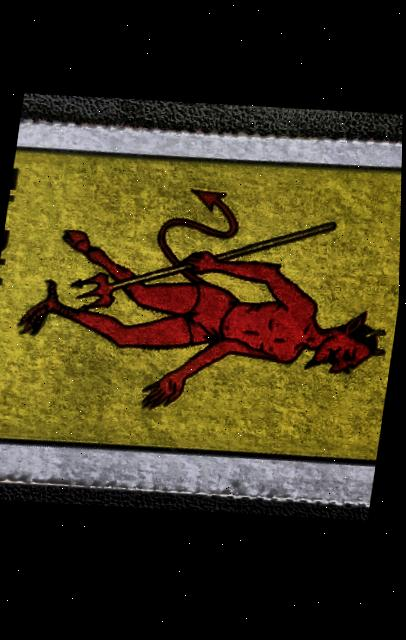El Diablito: (0, 115, 404, 517)
